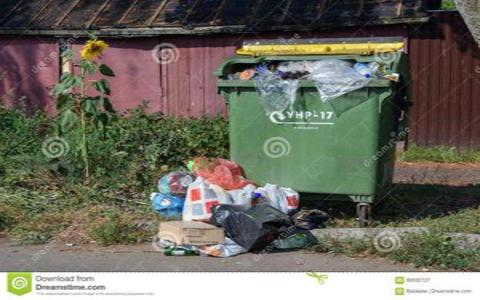overflowing garbage: (140, 43, 425, 259)
